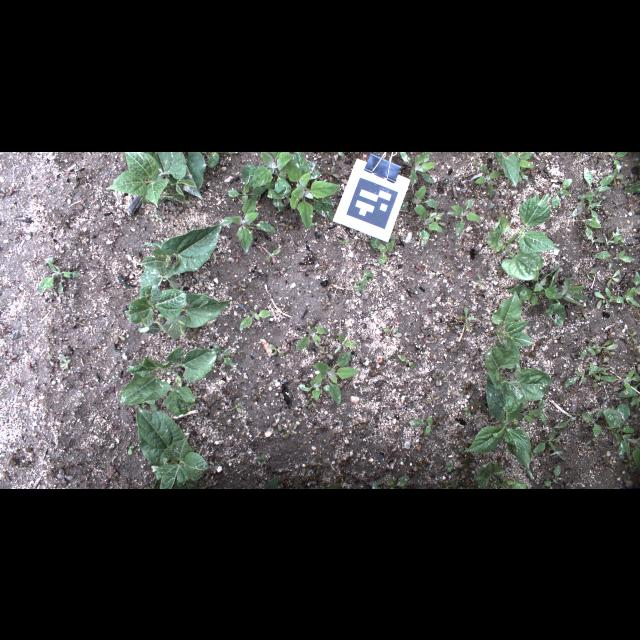crop: (462, 372, 534, 478), (136, 217, 234, 291), (486, 192, 562, 280), (119, 346, 217, 414), (125, 284, 233, 340), (136, 406, 208, 488), (104, 151, 206, 207), (484, 347, 550, 401), (489, 290, 533, 368), (474, 462, 530, 488), (496, 152, 534, 186)
weed: (242, 152, 341, 230), (506, 264, 590, 326), (232, 192, 278, 254), (602, 402, 640, 468), (314, 350, 360, 404), (38, 256, 82, 294), (601, 368, 639, 410), (570, 190, 602, 238), (564, 360, 612, 388), (394, 184, 438, 214), (399, 152, 437, 186), (579, 165, 617, 199), (448, 198, 480, 236), (296, 370, 332, 400), (419, 207, 446, 246), (532, 429, 564, 459), (474, 162, 502, 196), (228, 181, 268, 203), (240, 309, 274, 333), (296, 324, 326, 350), (518, 398, 546, 424), (370, 235, 394, 265), (580, 407, 604, 437), (580, 339, 618, 357), (594, 286, 624, 308), (551, 178, 571, 208), (410, 414, 432, 436), (354, 268, 376, 290), (213, 342, 233, 366), (335, 333, 359, 353), (208, 151, 236, 167), (460, 305, 476, 331), (317, 346, 333, 360), (398, 354, 414, 368), (270, 342, 284, 356), (384, 327, 402, 337), (60, 353, 70, 369)
